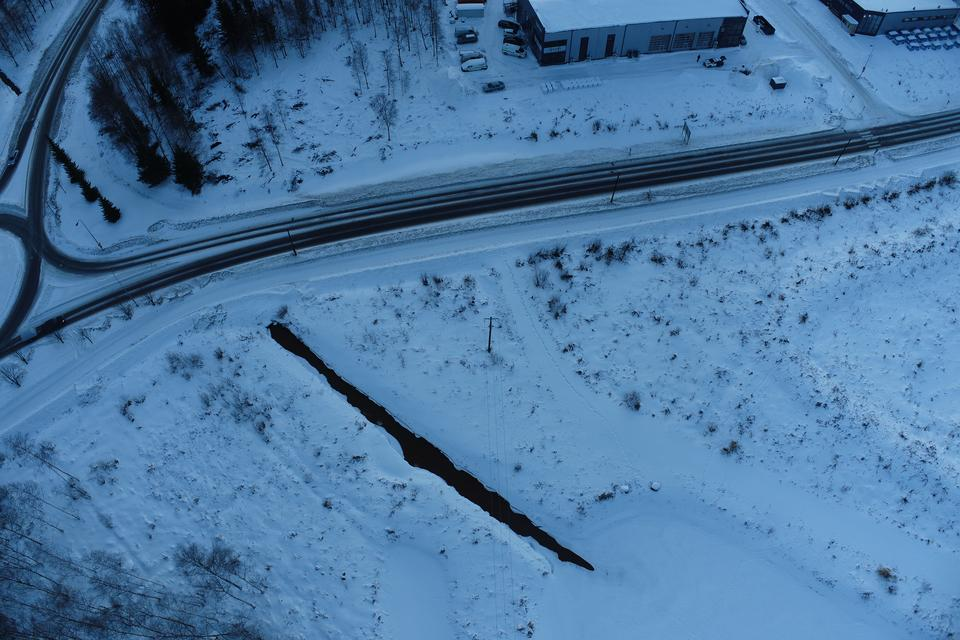intersection: (809, 69, 933, 194)
roundabout: (0, 163, 74, 401)
